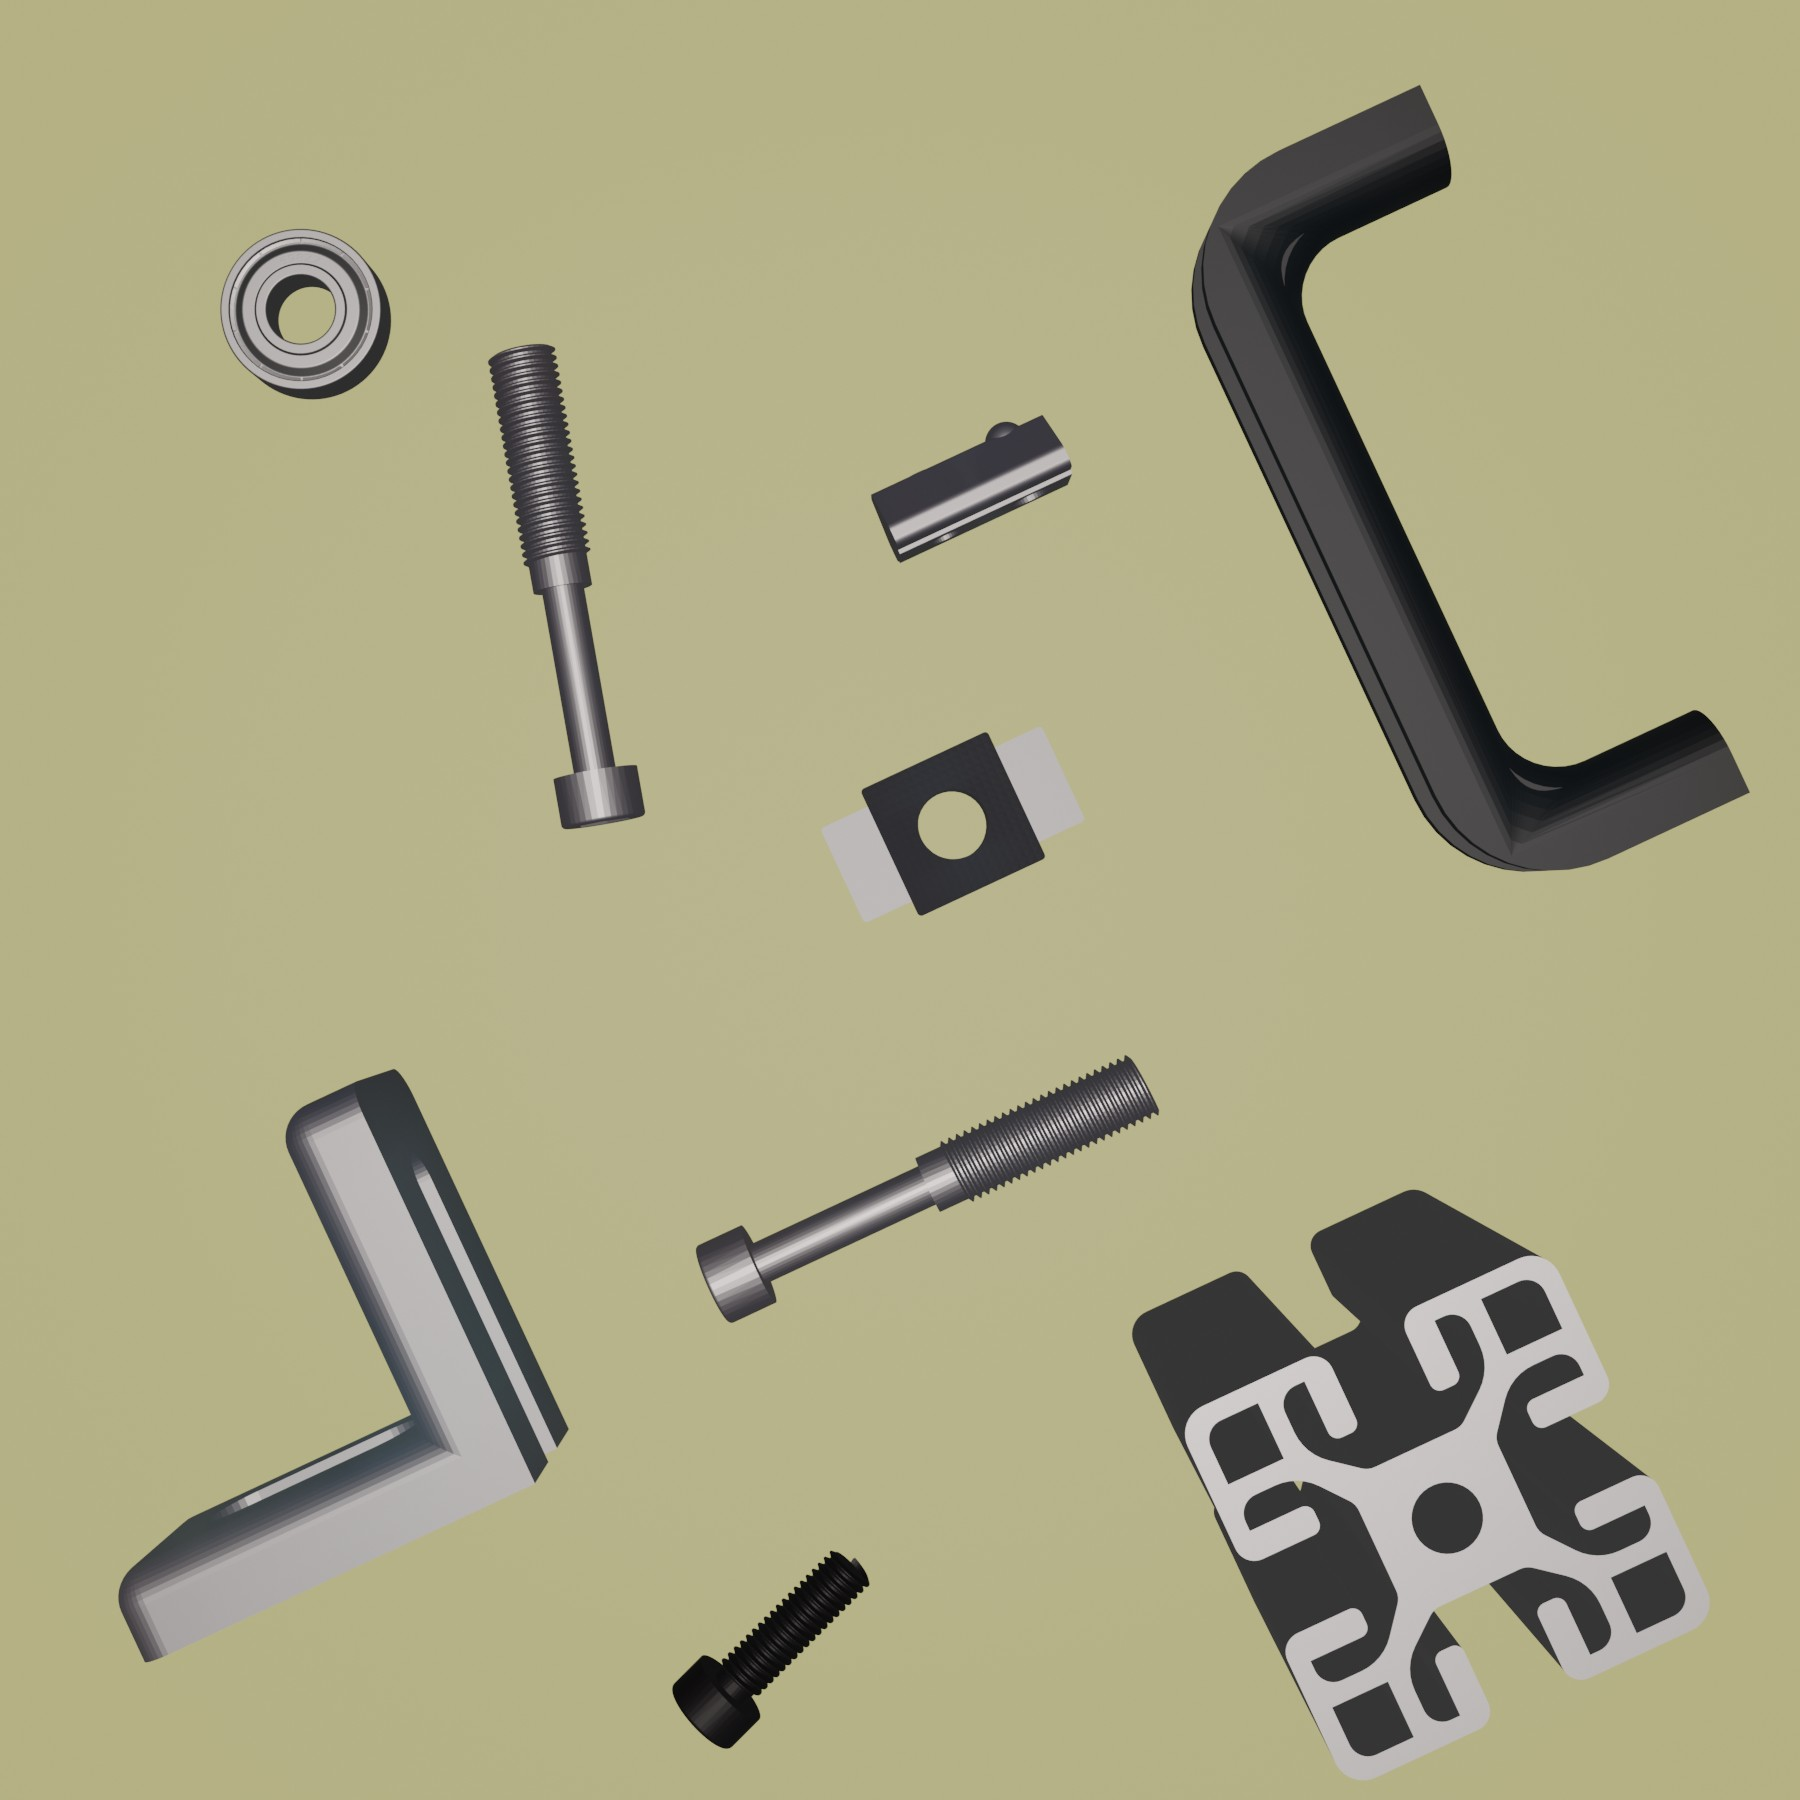Aluminium Extension: (1129, 1188, 1711, 1784)
Ball Bearing: (218, 227, 392, 401)
Multiwinkel: (115, 1065, 570, 1665)
Pull Handle: (1188, 81, 1752, 874)
Shoulder Socket Head Cap Screw: (692, 1055, 1164, 1325), (486, 341, 646, 832)
Socket Head Cap Screw: (671, 1549, 874, 1751)
T Nut Square: (819, 720, 1090, 925)
T Spring Nut: (870, 410, 1073, 570)
